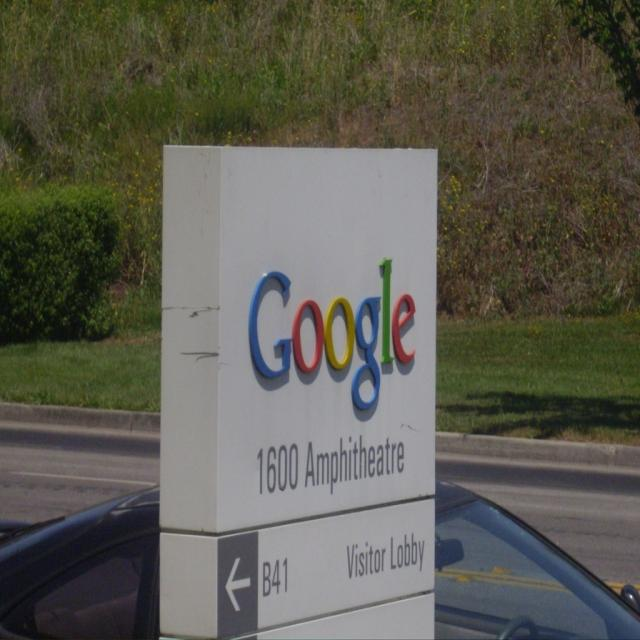google: (239, 255, 421, 428)
